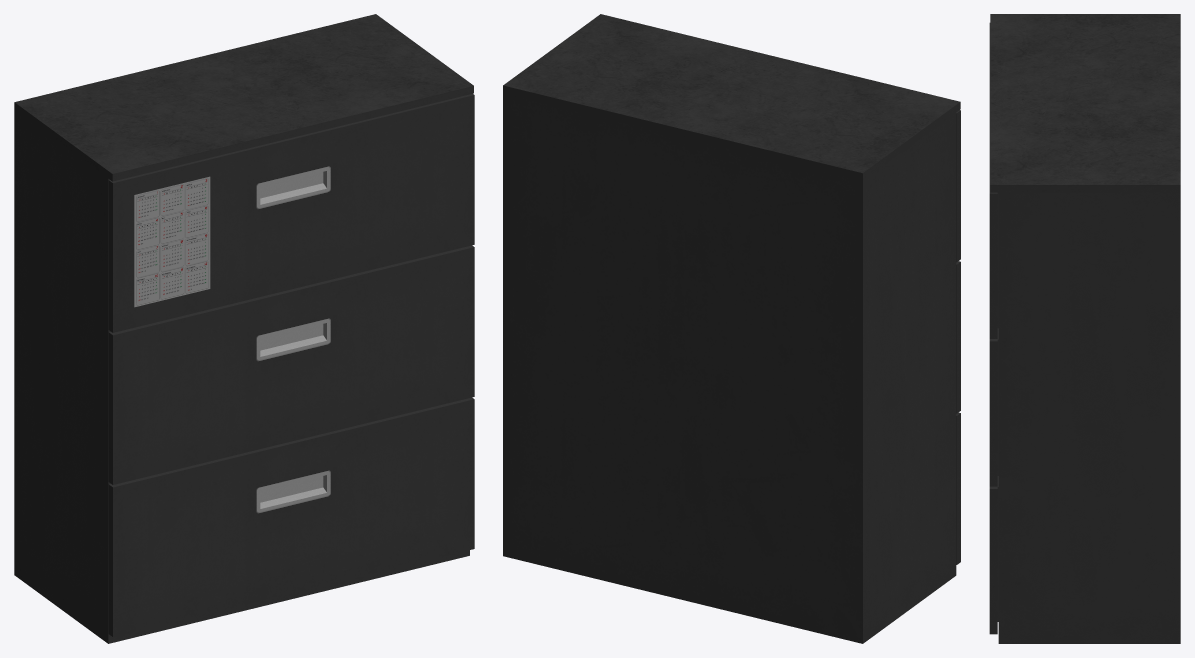
Rendered from Cabinet_1.FBX.
The picture shows the model from 3 angles, left to right: view 1: azimuth 30°, elevation 25°; view 2: azimuth 150°, elevation 25°; view 3: azimuth 270°, elevation 25°; orthographic projection. The views are drawn at different scales.
Visible parts, largest first — view 1: Cabinet_1, Drawer_03, Drawer_02, Drawer_01; view 2: Cabinet_1, Drawer_03, Drawer_02, Drawer_01; view 3: Cabinet_1, Drawer_01, Drawer_03, Drawer_02.
Part boxes in pixels (x1,y1,x2,y2): Cabinet_1: [14, 14, 473, 643]; Drawer_03: [108, 397, 474, 636]; Drawer_02: [108, 245, 474, 484]; Drawer_01: [108, 93, 474, 332]; Cabinet_1: [503, 14, 960, 643]; Drawer_03: [956, 412, 960, 564]; Drawer_02: [956, 261, 960, 413]; Drawer_01: [956, 110, 960, 262]; Cabinet_1: [990, 14, 1180, 643]; Drawer_01: [989, 23, 998, 338]; Drawer_03: [989, 476, 998, 634]; Drawer_02: [989, 328, 998, 486].
Bounding box in the file's own units: 100 × 125 × 47.29.
